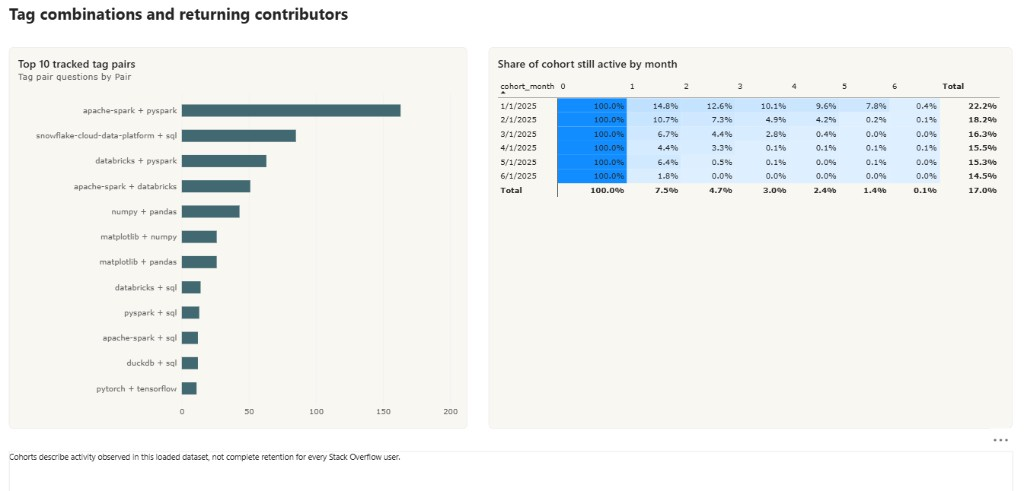

What the dashboard file says about the page in this screenshot:
{"tool":"powerbi","page":{"name":"Pairs and Cohorts","canvas":[1920,1080],"ordinal":3},"visuals":[{"type":"textbox","box":[40,18,1840,58],"z":1},{"type":"clusteredBarChart","title":"Top 10 tracked tag pairs","fields":{"Category":["agg_tag_pairs.Pair"],"Y":["Measures (2).Tag pair questions"]},"box":[40,100,840,700],"z":2},{"type":"pivotTable","title":"Share of cohort still active by month","fields":{"Columns":["agg_user_cohort.months_since"],"Rows":["agg_user_cohort.cohort_month"],"Values":["Measures (2).Average cohort still active"]},"box":[920,100,960,700],"z":3},{"type":"textbox","box":[40,840,1840,120],"z":4},{"type":"textbox","box":[40,1040,1840,26],"z":99}]}

Visuals, with their boxes on the page's 1920x1080 design canvas (x1, y1, x2, y2). These are canvas units, not pixel positions in the 1024x491 screenshot, which may show the page scaled, cropped or inside an application window:
textbox: {"x1": 40, "y1": 18, "x2": 1880, "y2": 76}
"Top 10 tracked tag pairs" clusteredBarChart: {"x1": 40, "y1": 100, "x2": 880, "y2": 800}
"Share of cohort still active by month" pivotTable: {"x1": 920, "y1": 100, "x2": 1880, "y2": 800}
textbox: {"x1": 40, "y1": 840, "x2": 1880, "y2": 960}
textbox: {"x1": 40, "y1": 1040, "x2": 1880, "y2": 1066}
